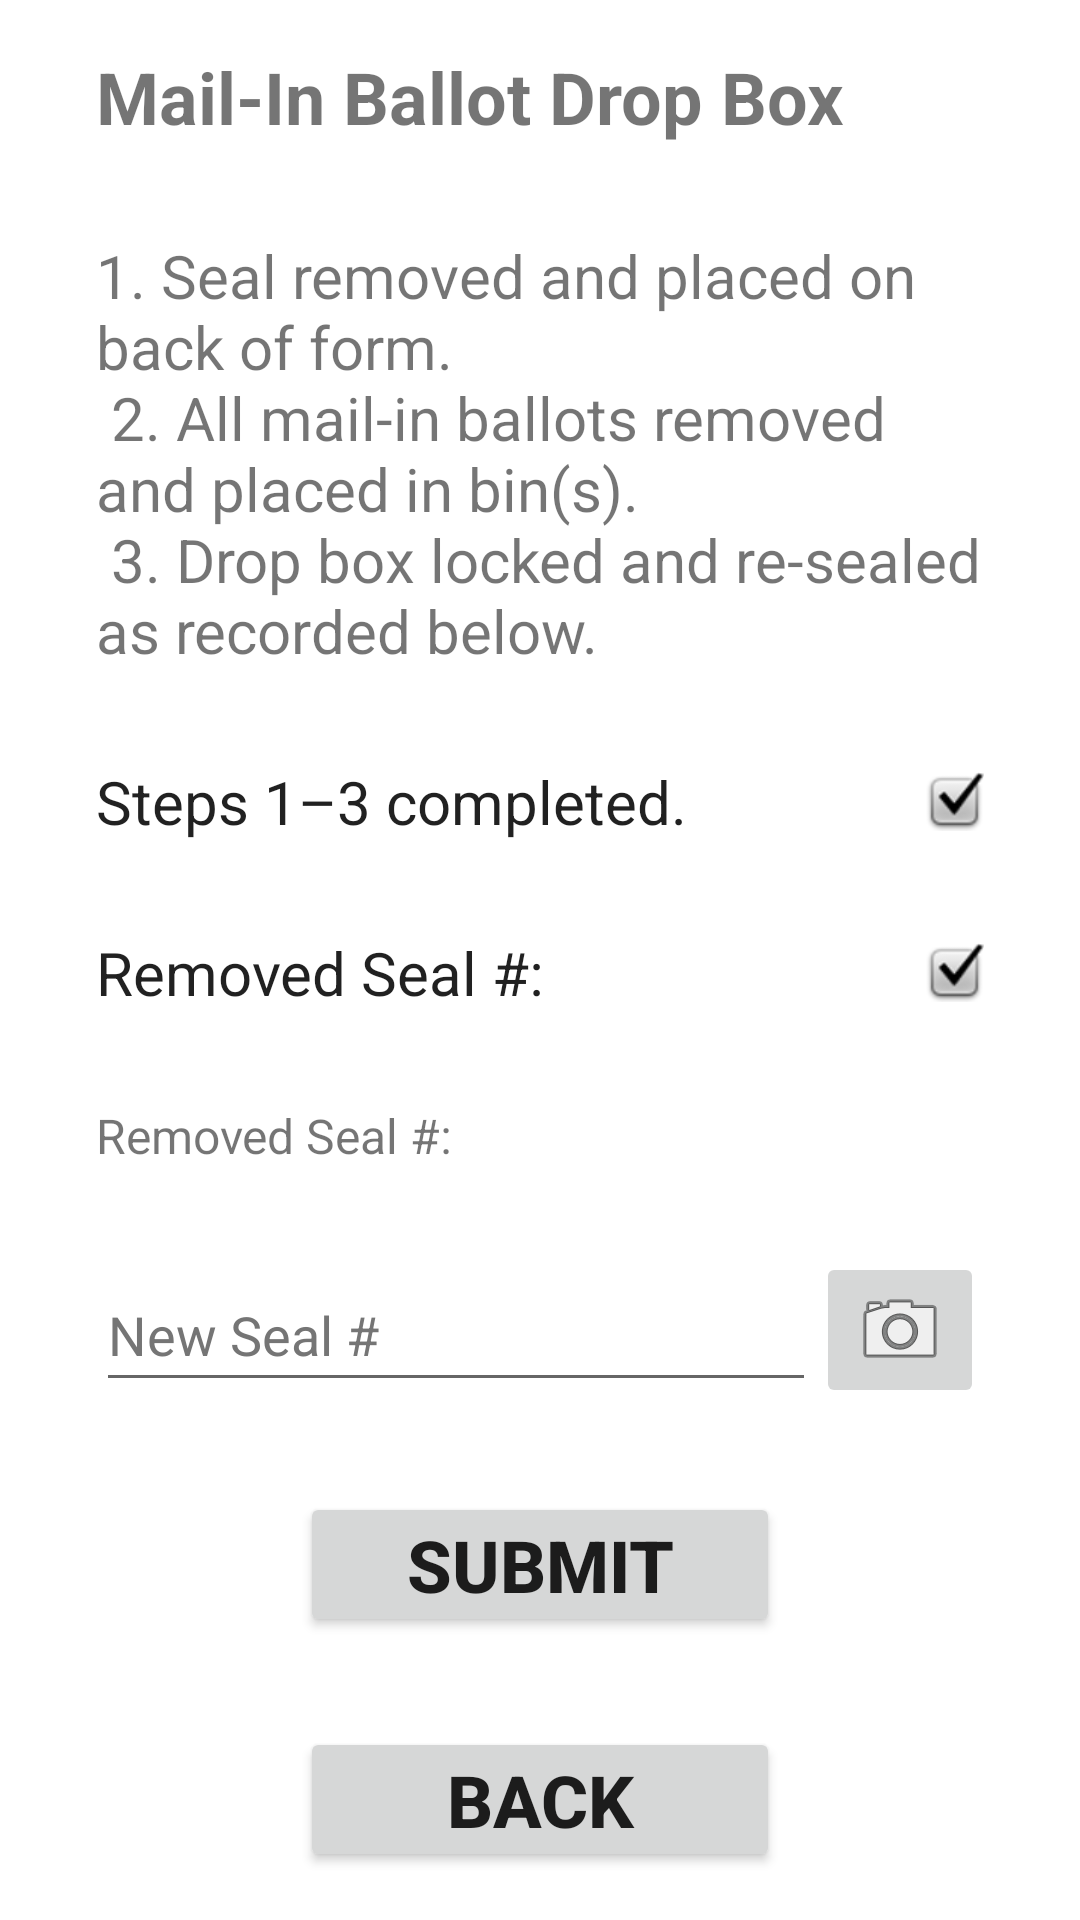

Named icons in this screenshot (1080px x 1920px) and their bounding boxes, region(x1, y1, x2, y2):
camera: region(828, 1270, 972, 1390)
